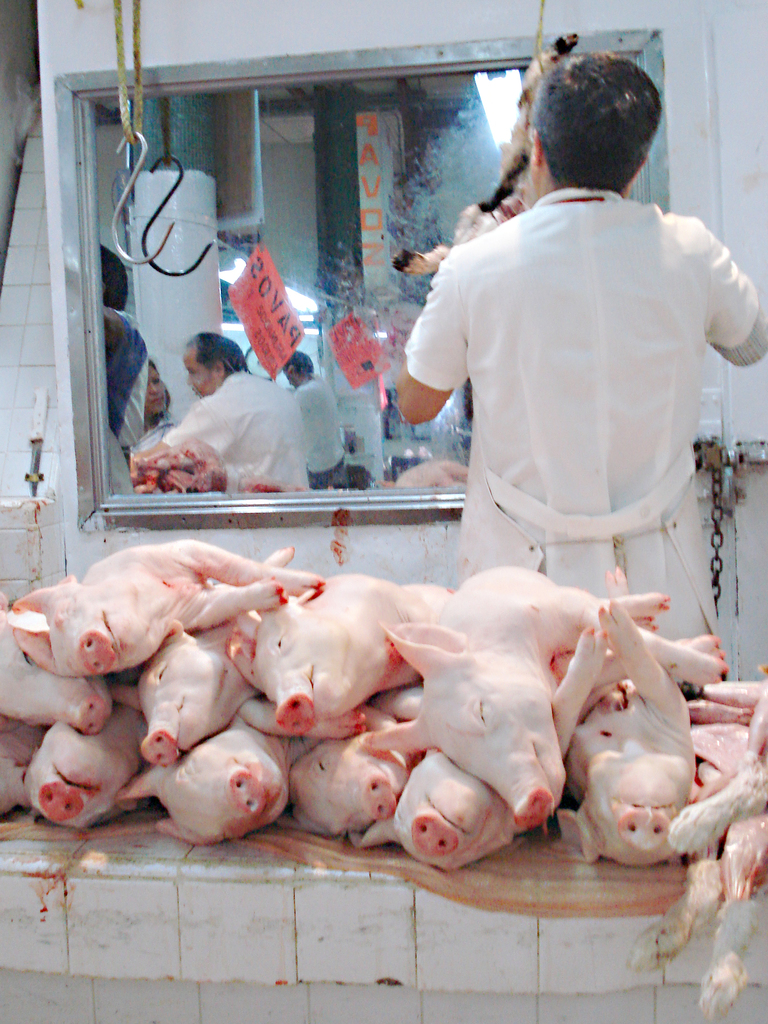Person: (396, 50, 767, 599), (166, 332, 304, 492), (286, 349, 348, 486)
